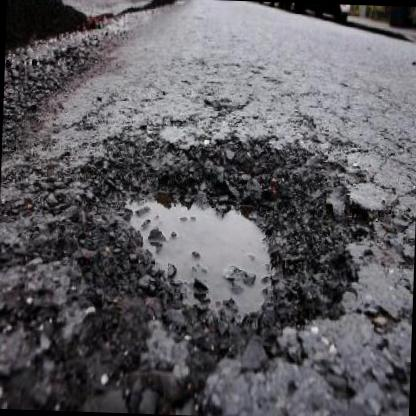pothole: (68, 125, 366, 352)
